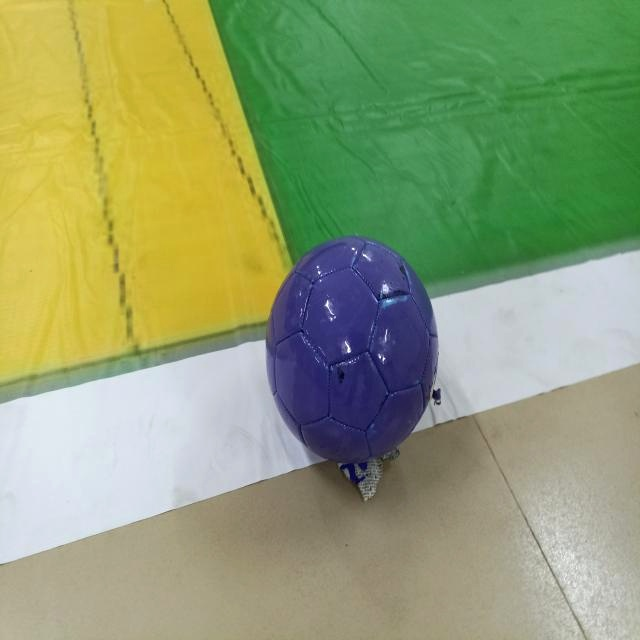purple_ball: (267, 235, 436, 461)
